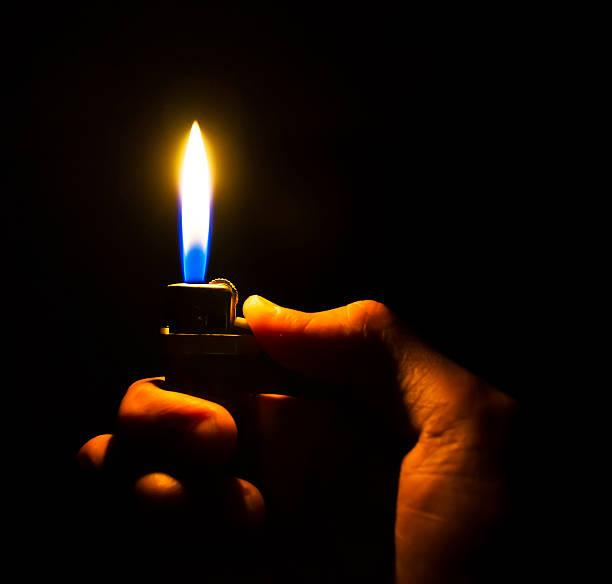Fire: (166, 108, 224, 283)
